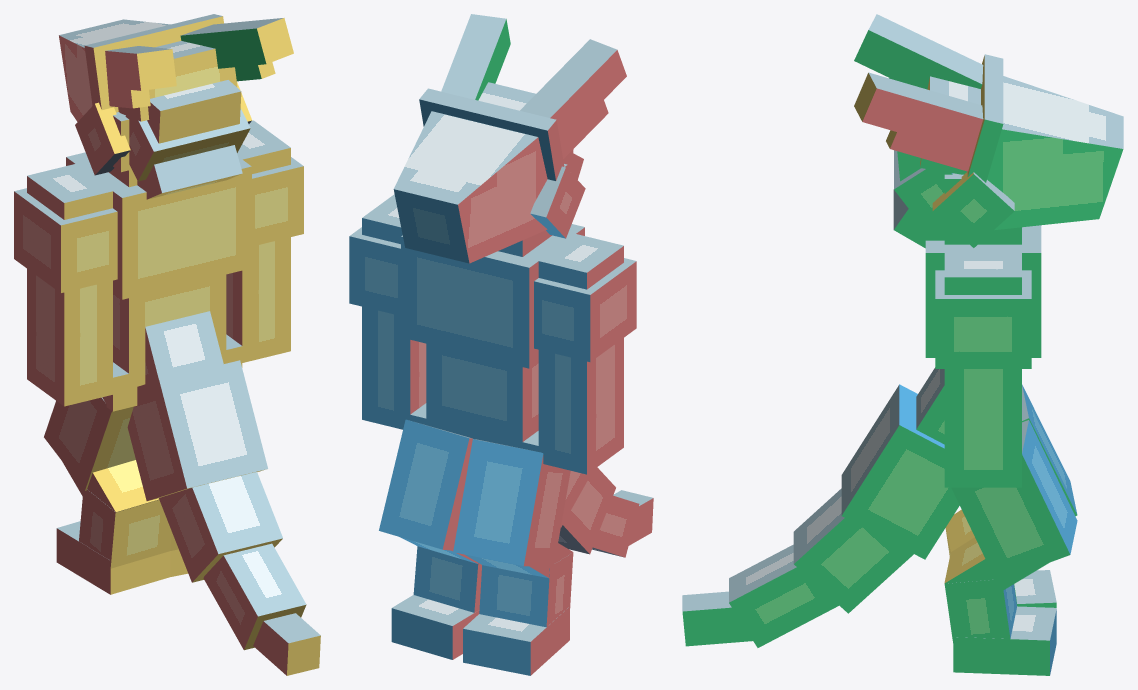
3 views of the same model, side by side, from view 1: azimuth 30°, elevation 25°; view 2: azimuth 150°, elevation 25°; view 3: azimuth 270°, elevation 25° (orthographic). The views are drawn at different scales.
Visible parts, largest first — view 1: Tail (×5), Chest, Fur (×4), Left Arm, Shield (×2), Right Arm, Ear (×4), Waist, Left Leg, Left Leg 3, Left Foot, Visor (+5 smaller); view 2: Visor, Chest, Left Arm, Left Leg, Shield (×2), Ear (×3), Right Leg, Waist, Right Arm, Tail (×4), Left Foot, Left Leg 3 (+8 smaller); view 3: Tail (×5), Visor, Ear (×3), Right Arm, Right Leg, Shield, Right Foot, Fur (×3), Chest, Right Leg 3, Screw, Separator (+5 smaller).
Part boxes in pixels (<box>): Tail (×5): <box>127,311,320,675</box>; Chest: <box>66,152,251,299</box>; Fur (×4): <box>118,41,250,199</box>; Left Arm: <box>27,164,112,406</box>; Shield (×2): <box>14,157,303,292</box>; Right Arm: <box>226,120,290,362</box>; Ear (×4): <box>105,18,293,108</box>; Waist: <box>113,274,226,373</box>; Left Leg: <box>44,397,135,490</box>; Left Leg 3: <box>79,489,171,568</box>; Left Foot: <box>56,521,170,594</box>; Visor: <box>59,19,170,121</box>; Visor: <box>393,111,547,263</box>; Chest: <box>401,224,584,368</box>; Left Arm: <box>538,234,623,474</box>; Left Leg: <box>453,439,570,567</box>; Shield (×2): <box>349,227,636,362</box>; Ear (×3): <box>441,14,626,158</box>; Right Leg: <box>379,419,472,550</box>; Waist: <box>426,343,538,441</box>; Right Arm: <box>362,194,426,429</box>; Tail (×4): <box>558,467,653,557</box>; Left Foot: <box>463,606,569,675</box>; Left Leg 3: <box>479,552,573,627</box>; Tail (×5): <box>682,367,959,647</box>; Visor: <box>987,76,1123,230</box>; Ear (×3): <box>854,14,983,171</box>; Right Arm: <box>944,253,1021,487</box>; Right Leg: <box>951,420,1077,581</box>; Shield: <box>935,270,1031,368</box>; Right Foot: <box>953,606,1056,675</box>; Fur (×3): <box>893,76,980,248</box>; Chest: <box>925,225,1041,357</box>; Right Leg 3: <box>944,579,1016,642</box>; Screw: <box>932,172,1014,247</box>; Separator: <box>967,54,1003,182</box>.
Size of the model in its own units: 0.9375 by 2.1 by 1.43.
Materials: 1 (1 with a texture image).
